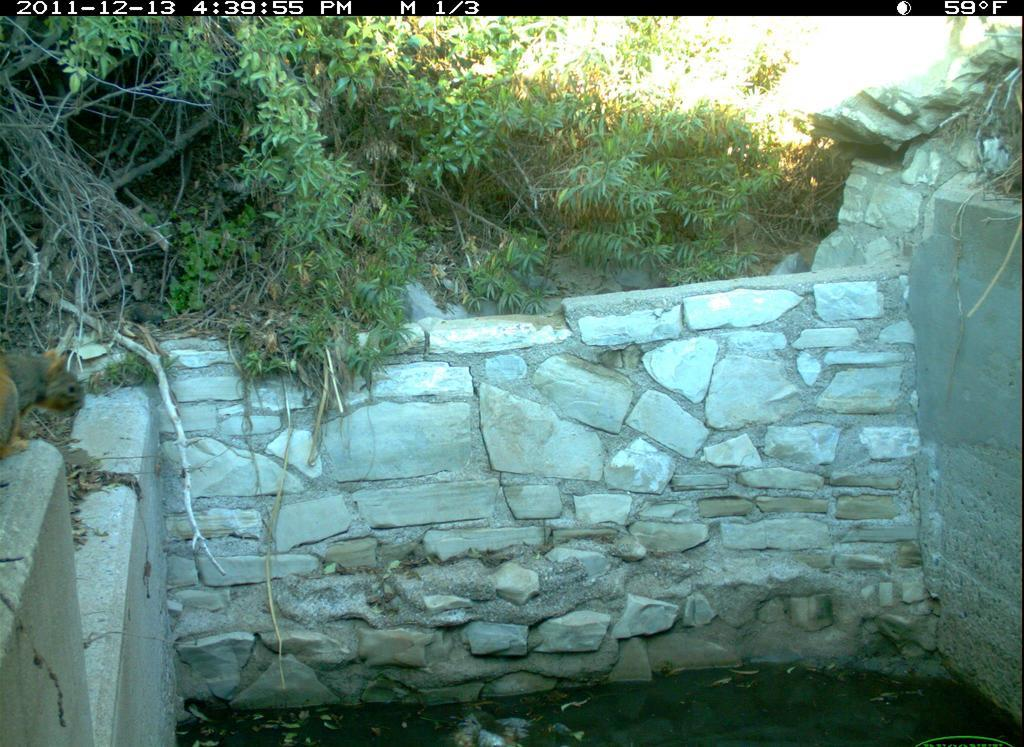squirrel: (1, 344, 91, 467)
